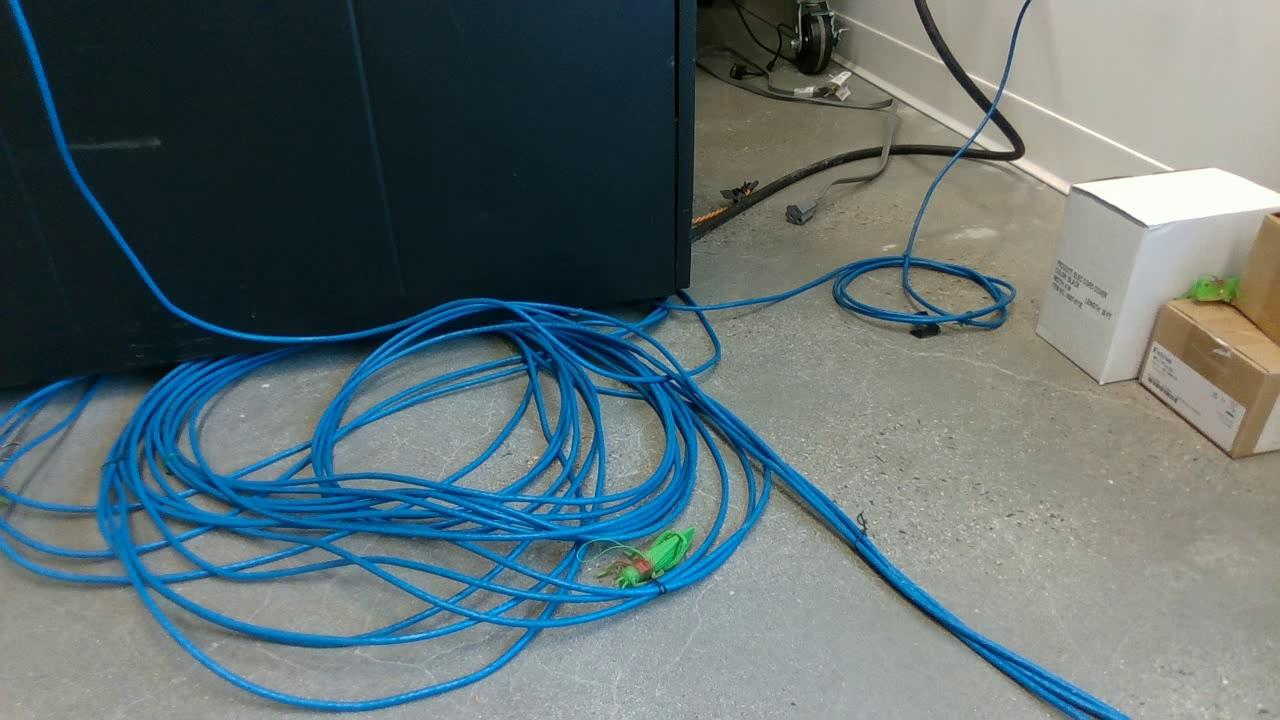grasshopper: (586, 526, 709, 599), (1184, 265, 1244, 321)
